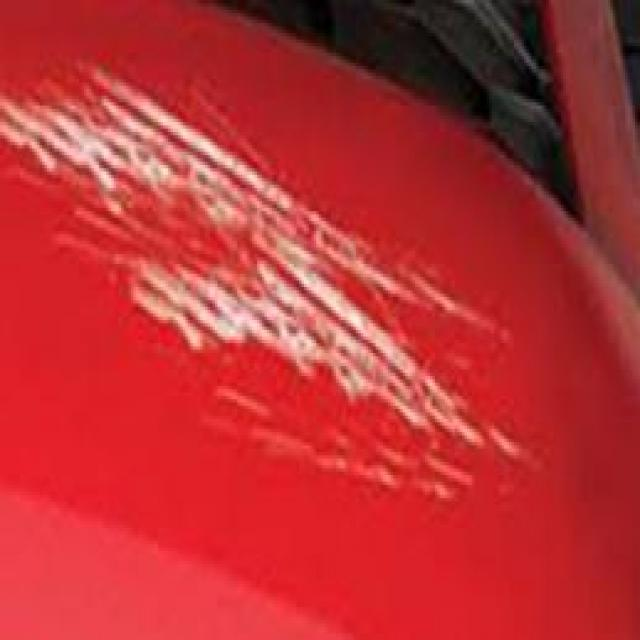scratch: (1, 54, 545, 520)
